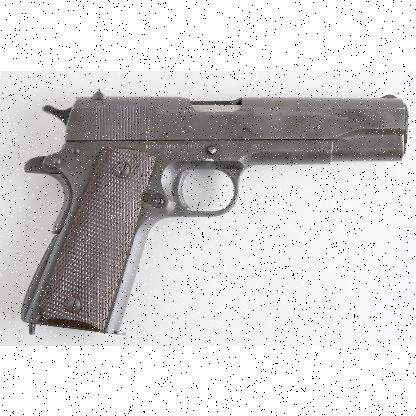gun: (20, 87, 408, 334)
